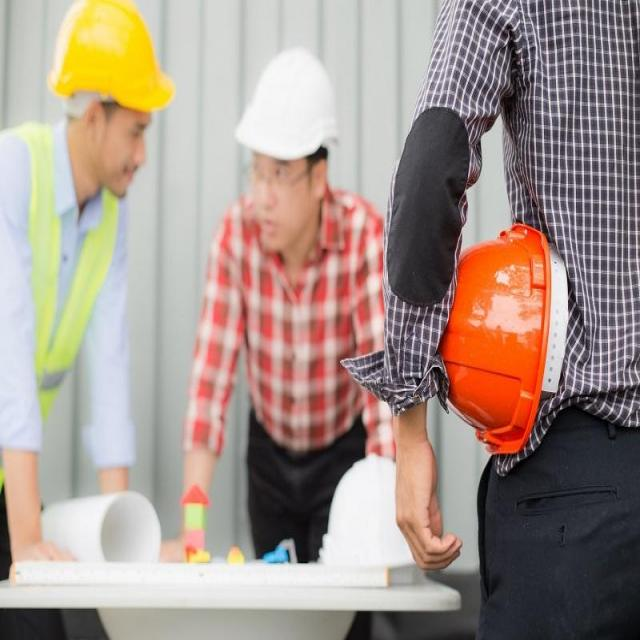Reflective-Jacket: (1, 129, 128, 403)
Safety-Helmet: (425, 224, 574, 458), (46, 1, 176, 119), (232, 38, 346, 164)
